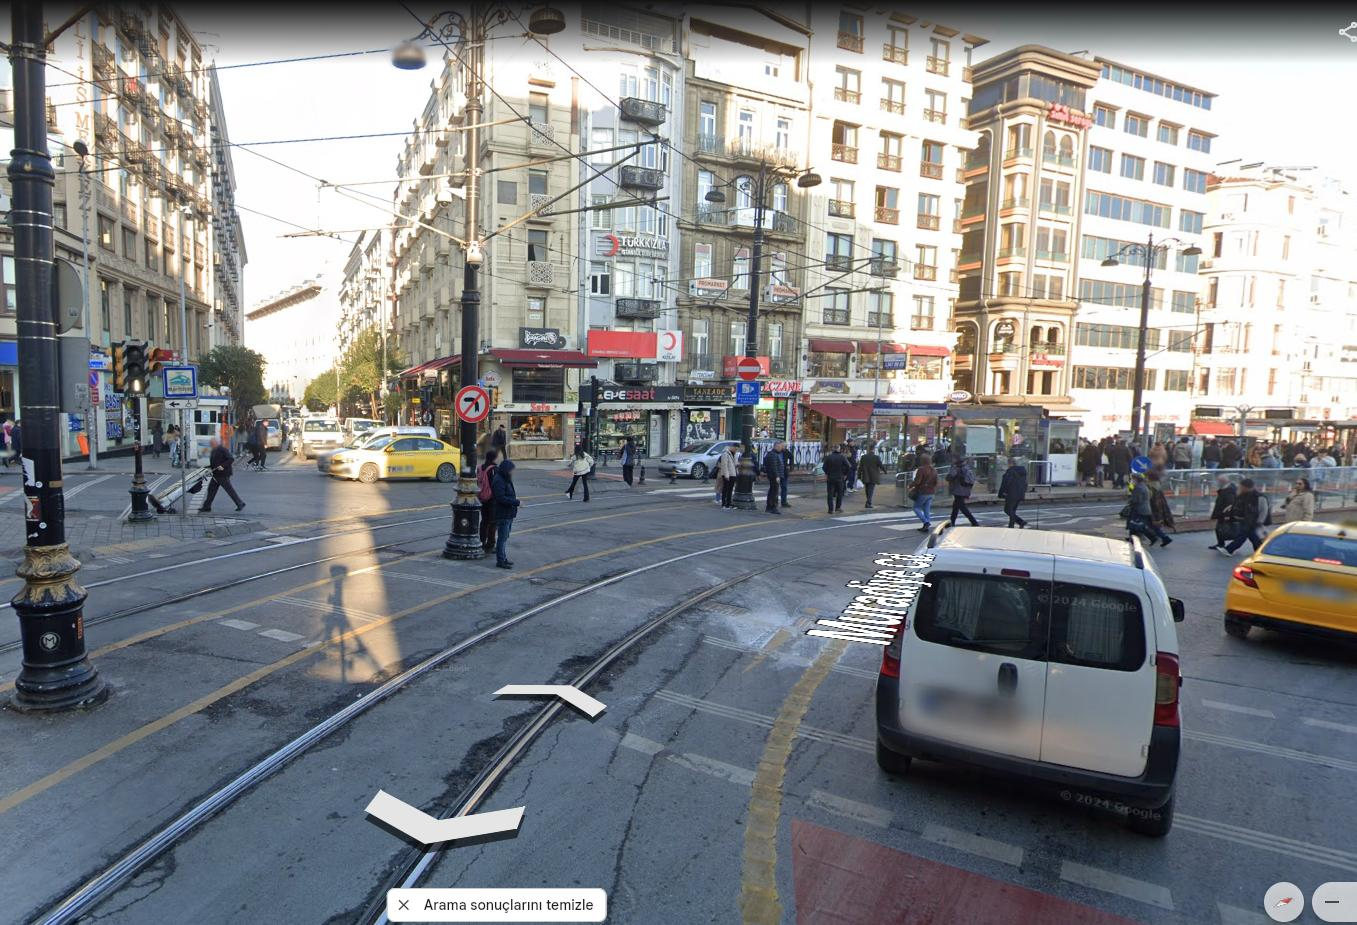leftturnsareforbidden: (456, 385, 490, 423)
